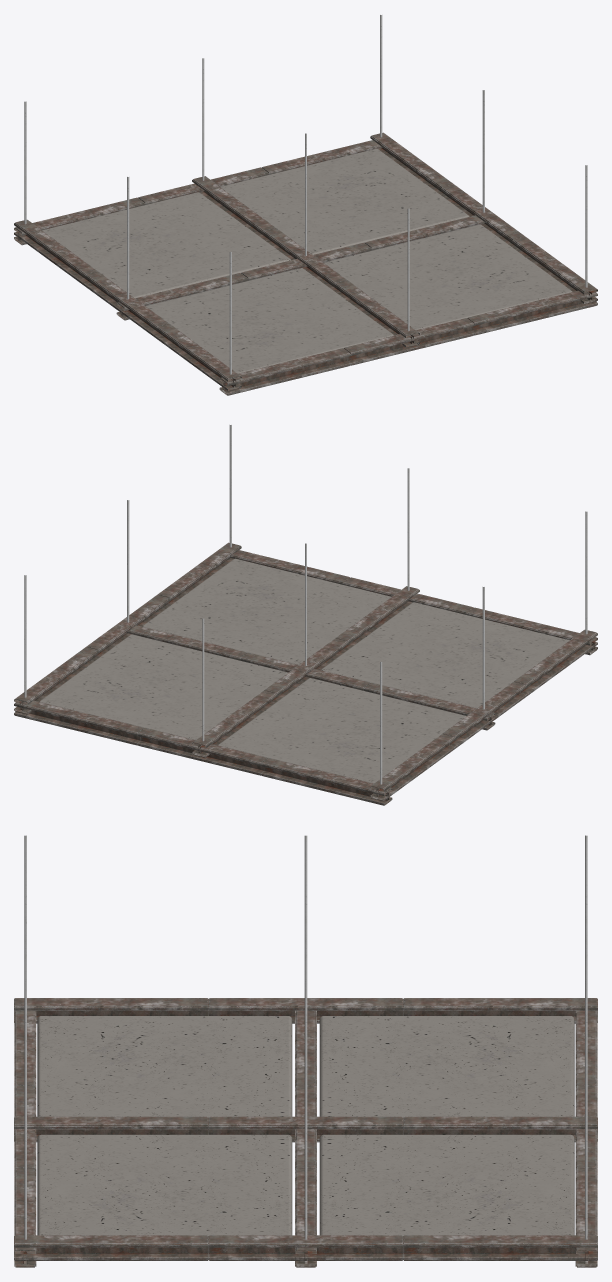
Rendered from SM_Ceiling_Scaffold_Whole.glb.
3 renders of one model, top to bottom at view 1: azimuth 30°, elevation 25°; view 2: azimuth 150°, elevation 25°; view 3: azimuth 270°, elevation 25°, orthographic. The views are drawn at different scales.
Visible parts, largest first — view 1: SM_Ceiling_Scaffold_Whole; view 2: SM_Ceiling_Scaffold_Whole; view 3: SM_Ceiling_Scaffold_Whole.
Part boxes in pixels (x1=…): SM_Ceiling_Scaffold_Whole: x1=14, y1=15, x2=597, y2=395; SM_Ceiling_Scaffold_Whole: x1=14, y1=425, x2=597, y2=805; SM_Ceiling_Scaffold_Whole: x1=14, y1=835, x2=597, y2=1267.
Bounding box in the file's own units: 2.6 × 0.9392 × 2.6.
3 materials, 3 textured.
